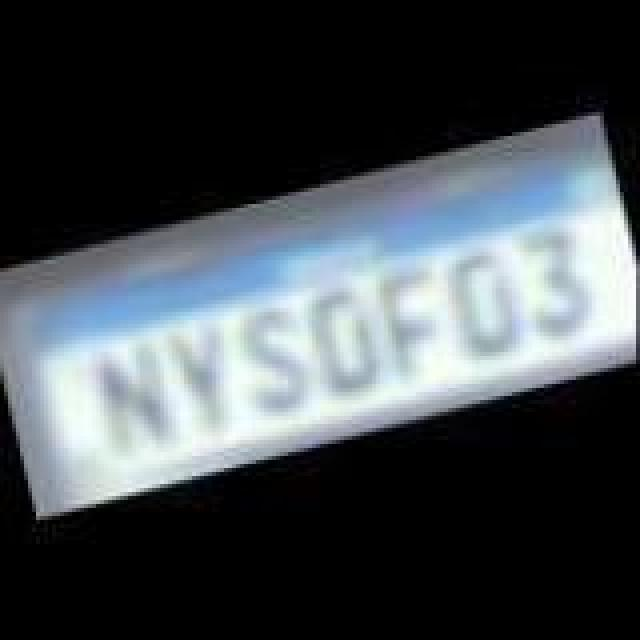3: (506, 220, 602, 344)
D: (442, 238, 530, 358), (300, 280, 384, 400)
F: (366, 256, 462, 384)
N: (86, 334, 182, 462)
S: (230, 292, 326, 420)
Y: (158, 314, 254, 442)
